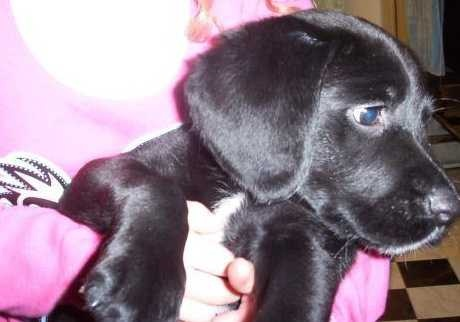dog: (15, 10, 454, 304)
